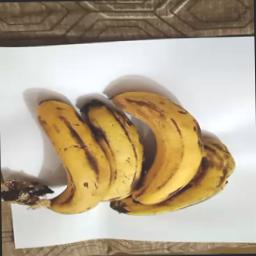Banana Unripe: (108, 82, 234, 220), (28, 91, 108, 220), (88, 86, 144, 212)
